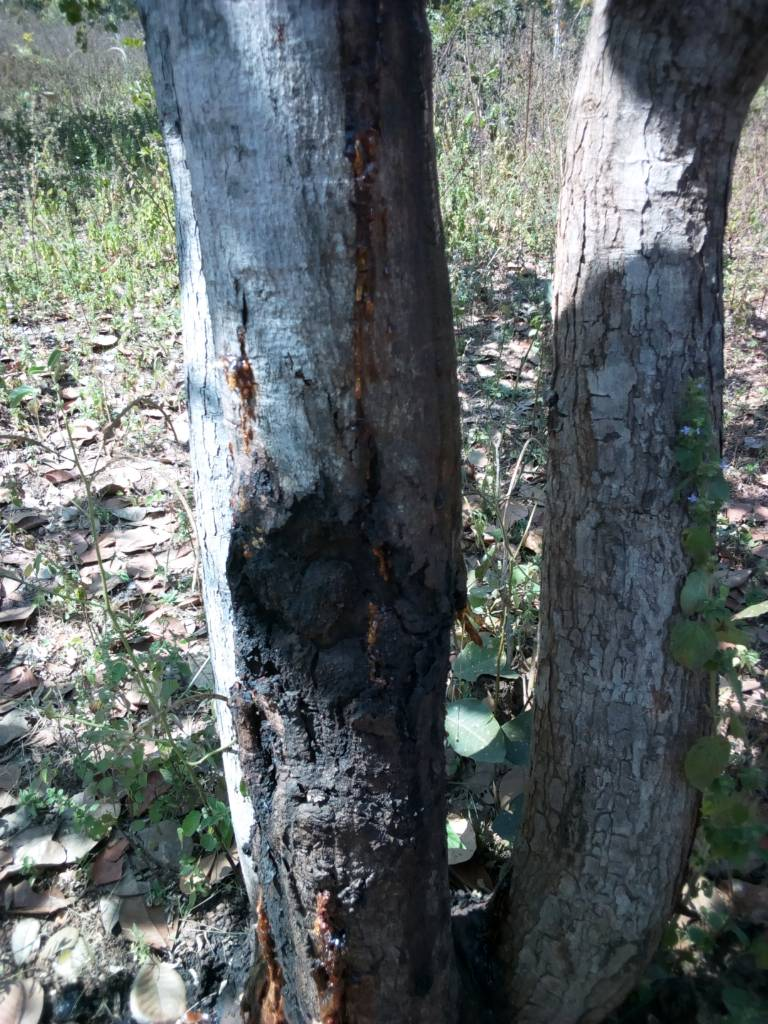Gommose: (216, 486, 457, 888), (338, 127, 390, 428)
